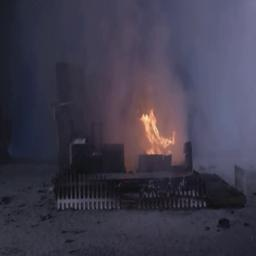fire: (128, 104, 187, 171)
smoke: (3, 0, 256, 100)
